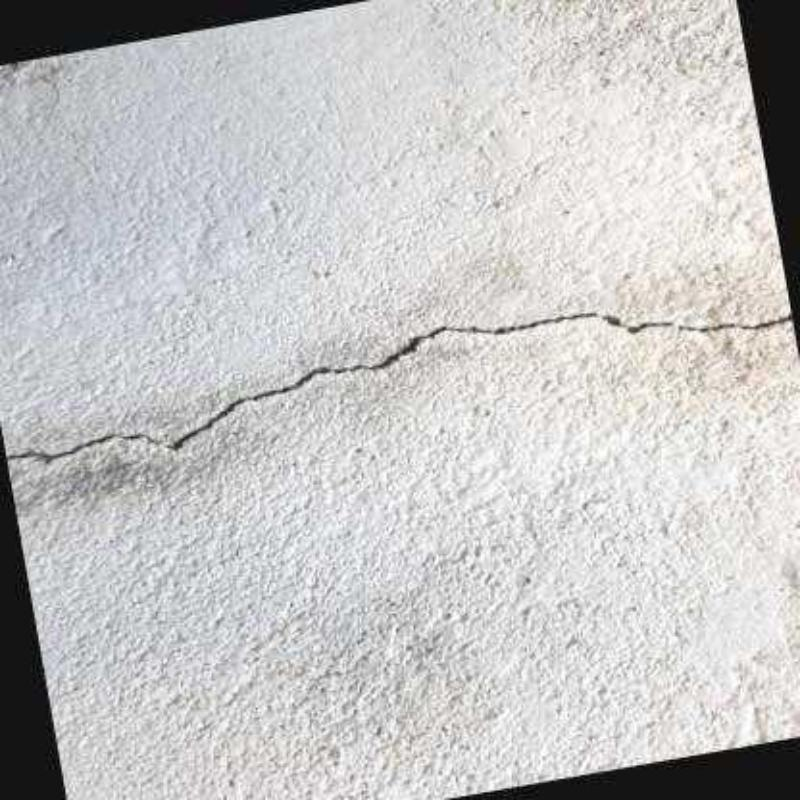pothole: (6, 312, 600, 466), (597, 309, 792, 337)
